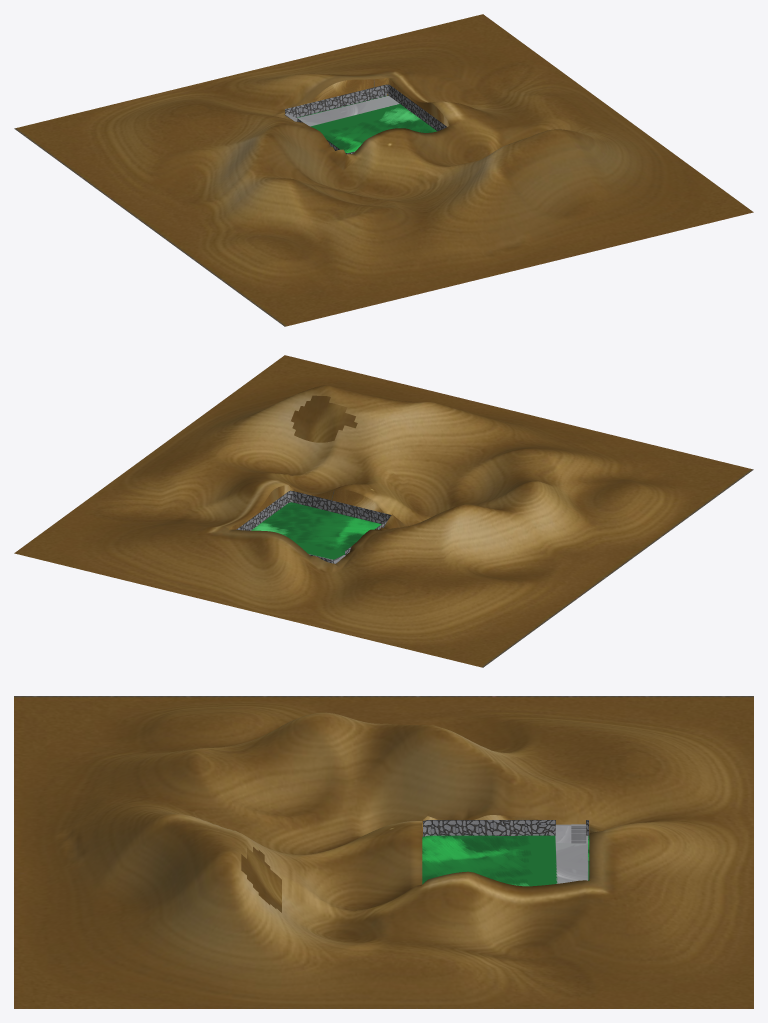
Rendered from Desierto.obj.
3 renders of one model, top to bottom at view 1: azimuth 30°, elevation 25°; view 2: azimuth 150°, elevation 25°; view 3: azimuth 270°, elevation 25°, orthographic. The views are drawn at different scales.
Visible parts, largest first — view 1: Desierto_Landscape.004, Base_jardin_Landscape.002, Muro_de_piedra_Landscape.001; view 2: Desierto_Landscape.004, Base_jardin_Landscape.002, Muro_de_piedra_Landscape.001; view 3: Desierto_Landscape.004, Base_jardin_Landscape.002, Muro_de_piedra_Landscape.001.
Part boxes in pixels (x1=…): Desierto_Landscape.004: x1=14, y1=14, x2=753, y2=326; Base_jardin_Landscape.002: x1=297, y1=95, x2=436, y2=153; Muro_de_piedra_Landscape.001: x1=285, y1=84, x2=446, y2=154; Desierto_Landscape.004: x1=14, y1=355, x2=753, y2=667; Base_jardin_Landscape.002: x1=251, y1=502, x2=381, y2=559; Muro_de_piedra_Landscape.001: x1=236, y1=490, x2=391, y2=563; Desierto_Landscape.004: x1=14, y1=696, x2=753, y2=1008; Base_jardin_Landscape.002: x1=422, y1=835, x2=589, y2=886; Muro_de_piedra_Landscape.001: x1=423, y1=820, x2=588, y2=836.
Bounding box in the file's own units: 100 × 12.57 × 100.
Materials: 4 (4 with a texture image).
